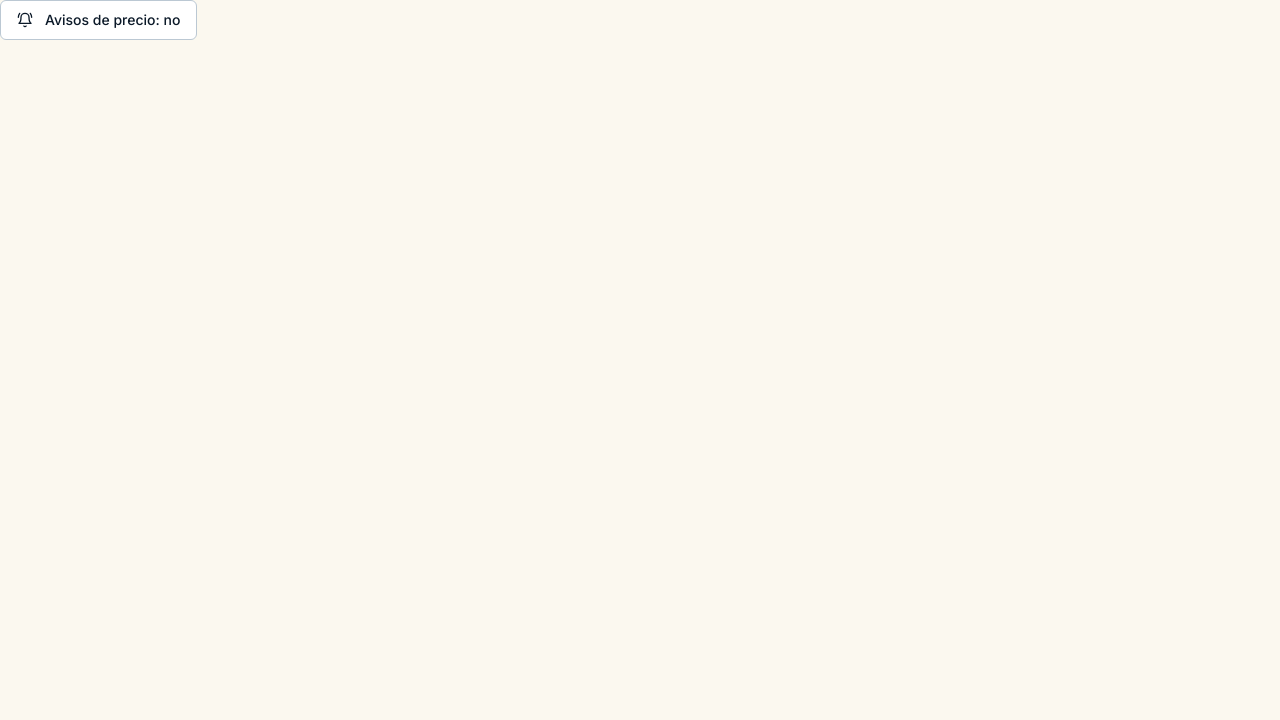
AvisosPrecio › sin permiso de edición se ve como texto, sin controles (se ocultan, no se desactivan)
What coordinates should you click on to do the following:
click the button with aria-label "Avisos de subida de precio"
I would click on:
 (99, 20)
Its box is 0,0 -> 197,40.
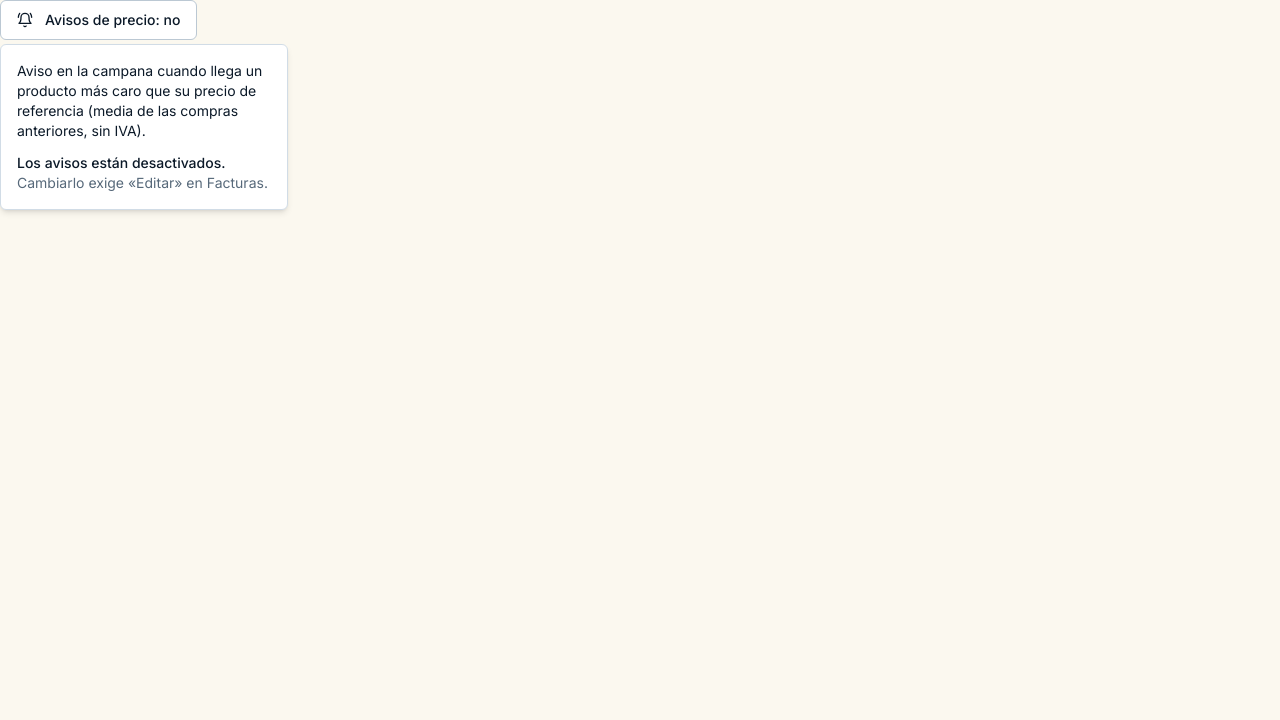
Expected: the element with test id "avisos-precio-solo-lectura" shows "Los avisos están desactivados.", 17,154 -> 225,171
Expected: the element with test id "avisos-precio-solo-lectura" shows "exige «Editar» en Facturas", 17,174 -> 268,191
